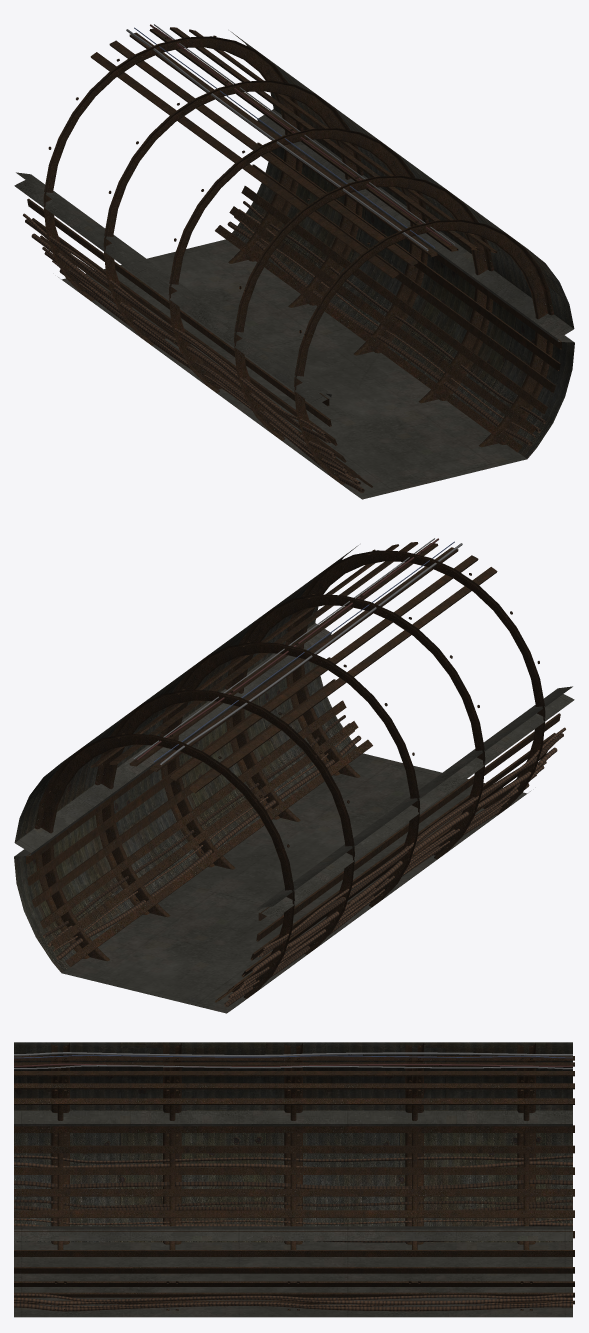
The model's file is tunnel_1.obj.
The picture shows the model from 3 angles, top to bottom: view 1: azimuth 30°, elevation 25°; view 2: azimuth 150°, elevation 25°; view 3: azimuth 270°, elevation 25°; orthographic projection. The views are drawn at different scales.
Visible parts, largest first — view 1: tunnel_1; view 2: tunnel_1; view 3: tunnel_1.
Part boxes in pixels (x1,y1,x2,y2): tunnel_1: (14, 24, 574, 499); tunnel_1: (14, 538, 574, 1013); tunnel_1: (14, 1042, 574, 1317).
Bounding box in the file's own units: 3 × 2.69 × 6.02.
